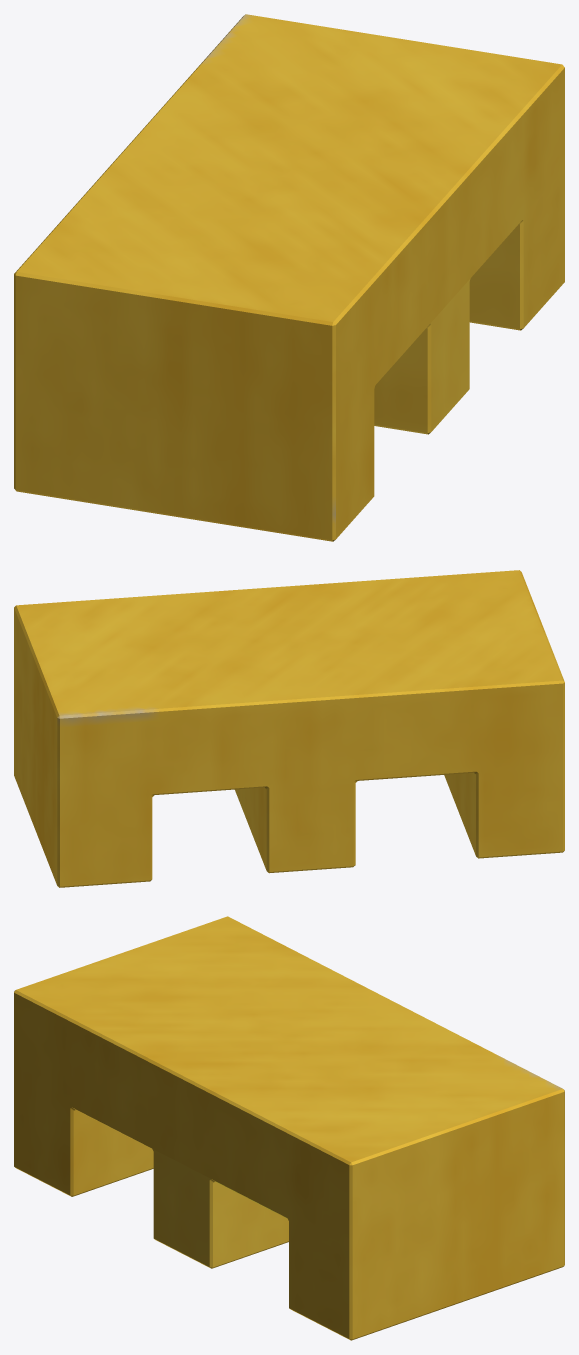
The model's file is block3.fbx.
3 views of the same model, one above another, from view 1: azimuth 30°, elevation 25°; view 2: azimuth 150°, elevation 25°; view 3: azimuth 270°, elevation 25° (orthographic). The views are drawn at different scales.
Parts seen in each view (by area): view 1: block3; view 2: block3; view 3: block3.
Boxes of the visible parts, x1,y1,x2,y2 form: block3: (14, 14, 564, 541); block3: (14, 570, 564, 887); block3: (14, 916, 564, 1340).
Bounding box in the file's own units: 1.9 × 0.6361 × 1.78.
